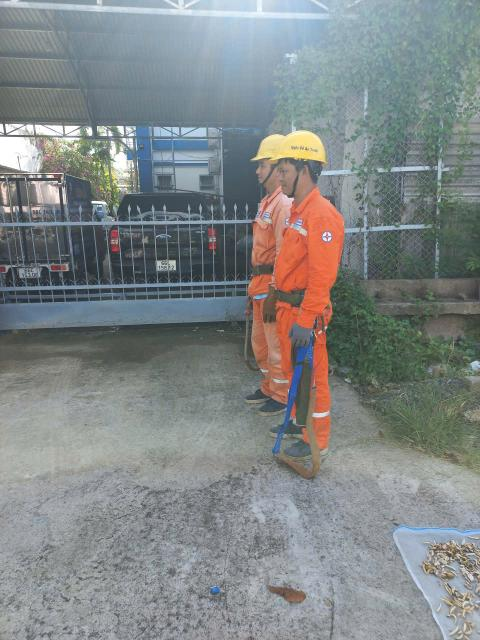gloves: (283, 321, 314, 352), (259, 284, 282, 325)
harness: (269, 283, 326, 313), (248, 254, 284, 287)
helmet: (274, 126, 330, 173), (246, 133, 288, 173)
shoes: (281, 428, 332, 465), (255, 416, 311, 435), (260, 388, 293, 418), (243, 380, 274, 408)
